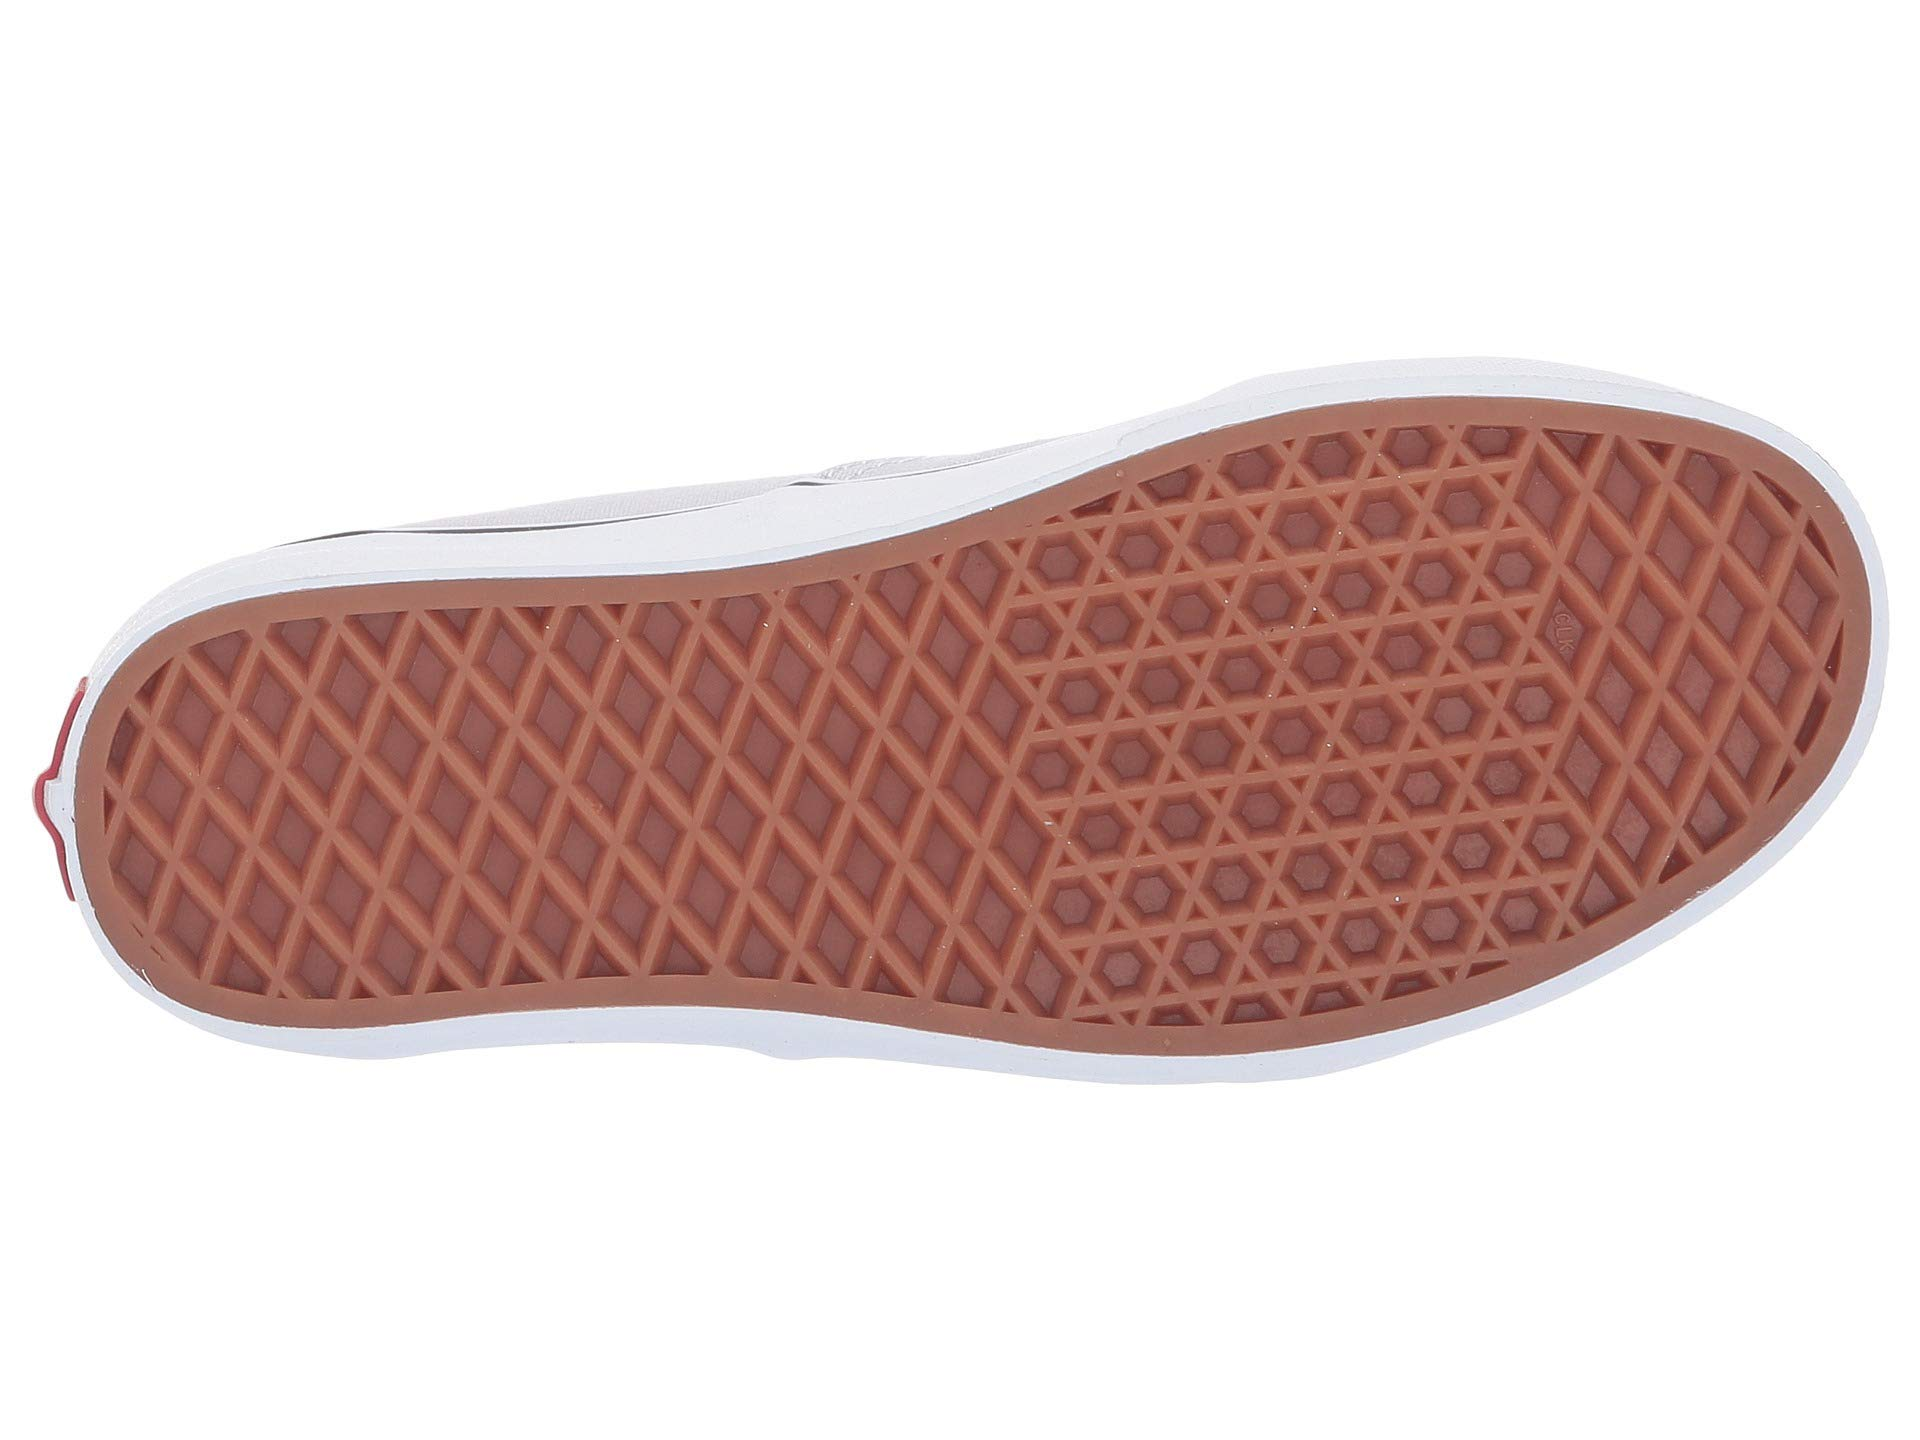polygon: (1067, 543, 1491, 945)
quad: (186, 637, 977, 976), (1545, 481, 1795, 808)
text: (1545, 481, 1795, 808)
triangle: (1067, 543, 1491, 945)
